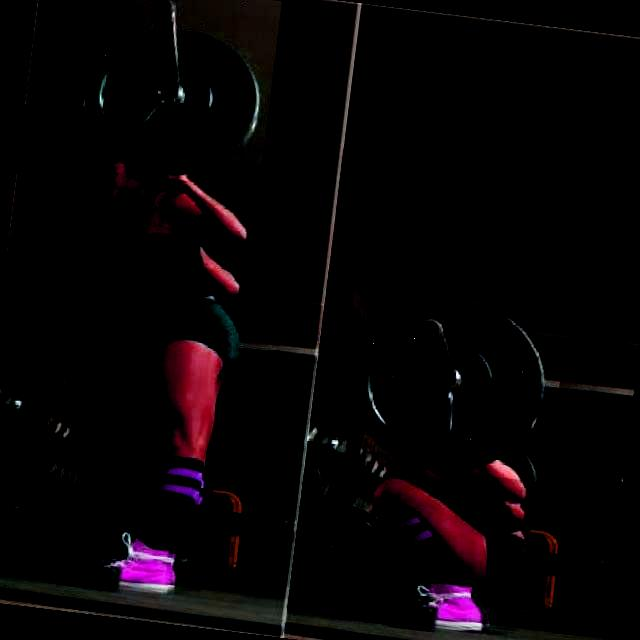barbell: (335, 280, 570, 485), (69, 1, 285, 190)
